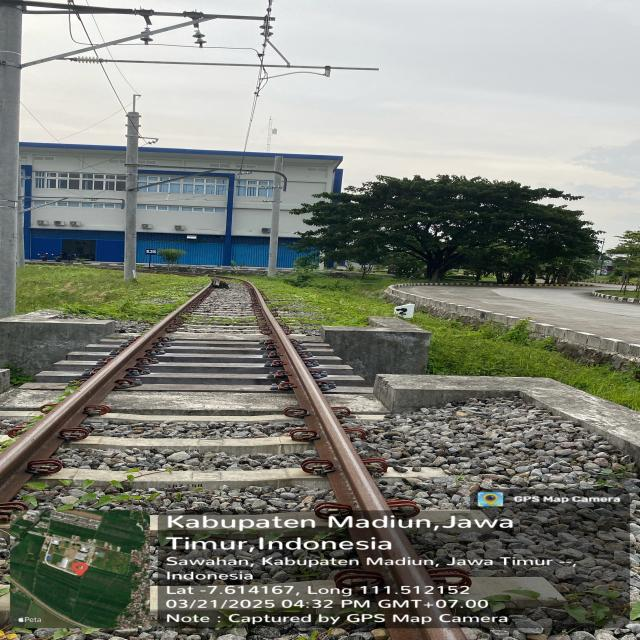rail-detection: (243, 281, 463, 640), (0, 283, 214, 501), (352, 472, 361, 479)
